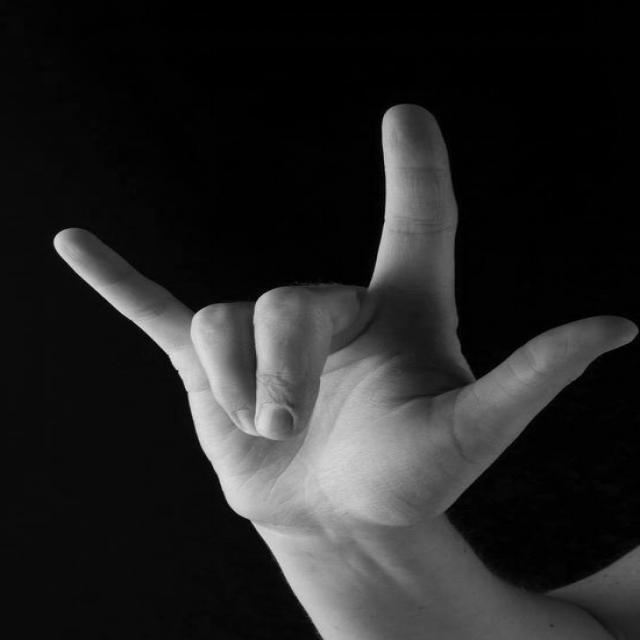i love you: (39, 94, 640, 547)
